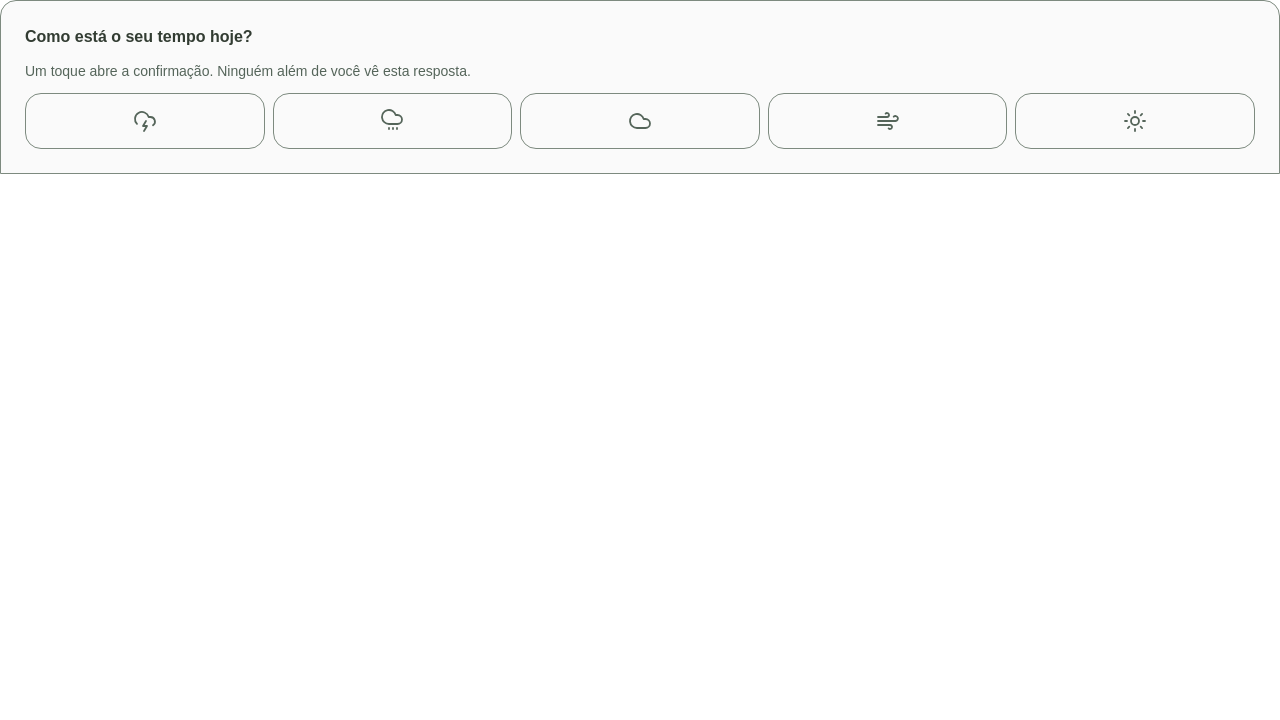
it: opens a confirmation popup on tap instead of recording right away
What coordinates should you click on to do the following:
click the button named "Chuva"
I would click on:
 (392, 121)
Its box is [273,93,512,149].
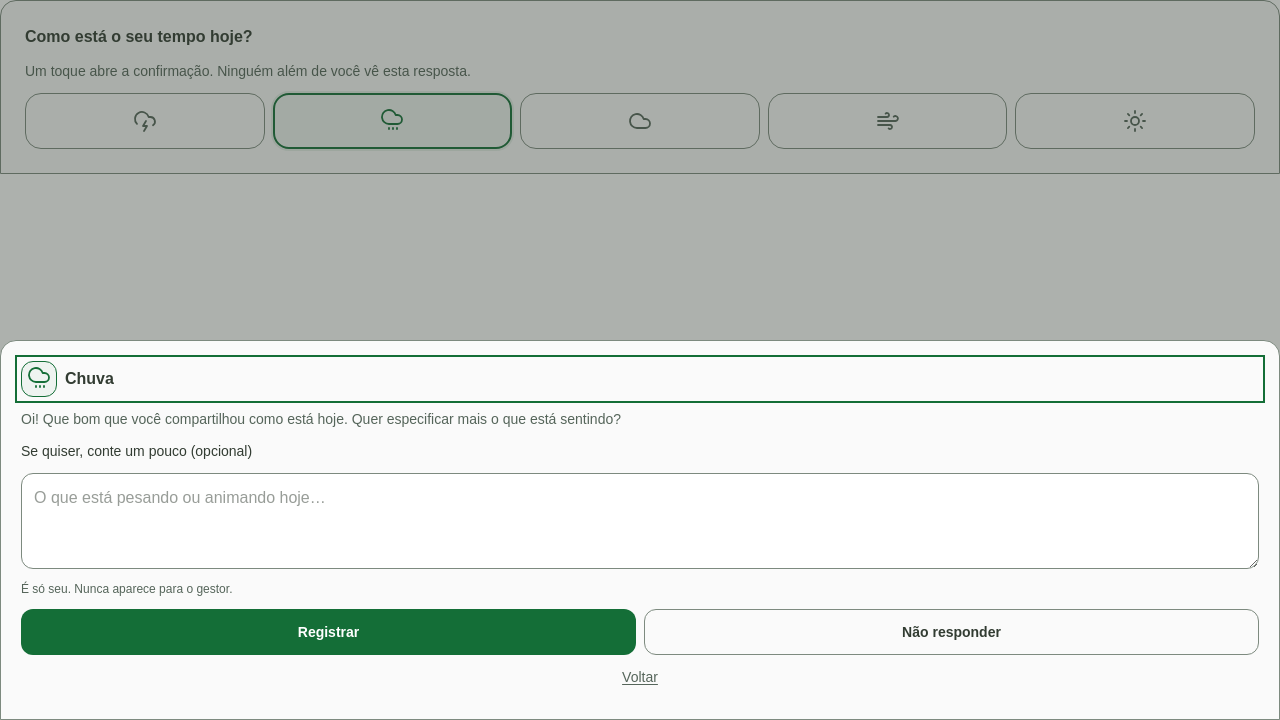
Now the text box is shown, box [21,473,1259,569]
